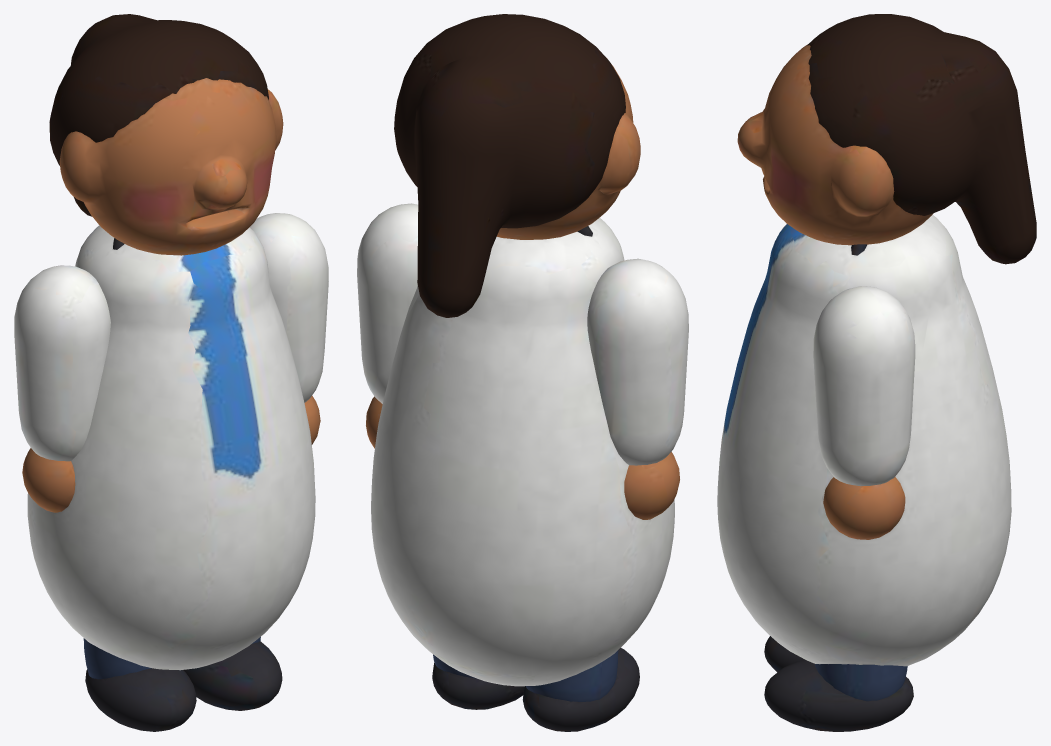
The model's file is villager_maya.glb.
3 renders of one model, left to right at view 1: azimuth 30°, elevation 25°; view 2: azimuth 150°, elevation 25°; view 3: azimuth 270°, elevation 25°, orthographic. The views are drawn at different scales.
Parts seen in each view (by area): view 1: body, head, arm0, arm1, leg0, leg1; view 2: body, head, arm0, arm1, leg0, leg1; view 3: body, head, arm1, leg1, leg0.
Boxes of the visible parts, x1,y1,x2,y2 form: body: (27, 225, 315, 670); head: (49, 14, 283, 255); arm0: (14, 265, 110, 512); arm1: (249, 213, 328, 444); leg0: (83, 638, 196, 731); leg1: (183, 637, 282, 710); body: (371, 217, 674, 686); head: (394, 14, 640, 317); arm0: (587, 258, 688, 519); arm1: (357, 203, 418, 448); leg0: (522, 648, 639, 731); leg1: (432, 654, 524, 709); body: (717, 215, 1011, 666); head: (737, 14, 1036, 264); arm1: (813, 286, 915, 539); leg1: (764, 659, 913, 731); leg0: (764, 636, 804, 672).
Bounding box in the file's own units: 0.421 × 0.886 × 0.3786.
Materials: 1 (1 with a texture image).
